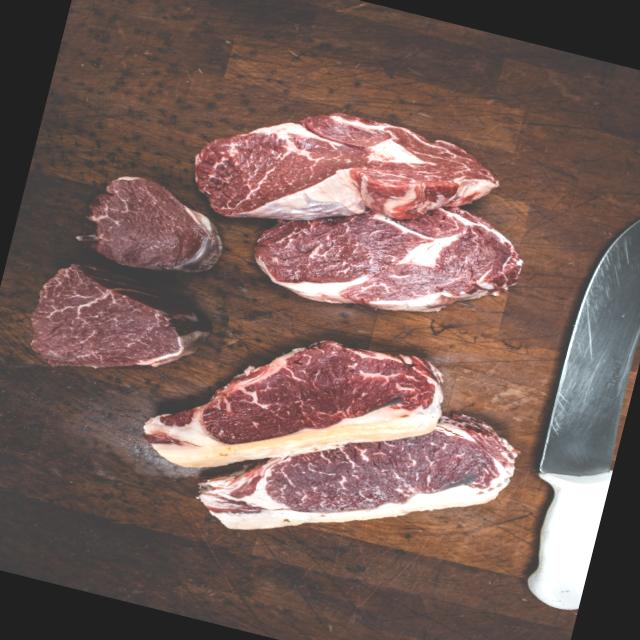beef: (132, 303, 496, 532), (191, 356, 524, 595), (205, 100, 484, 260), (276, 185, 500, 326), (26, 278, 180, 384), (86, 182, 222, 282)
